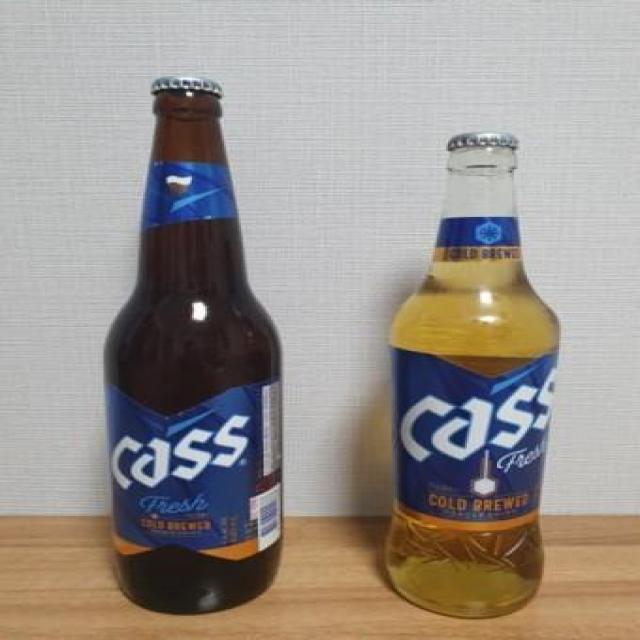beer-bottle: (362, 125, 598, 629), (86, 72, 302, 622)
